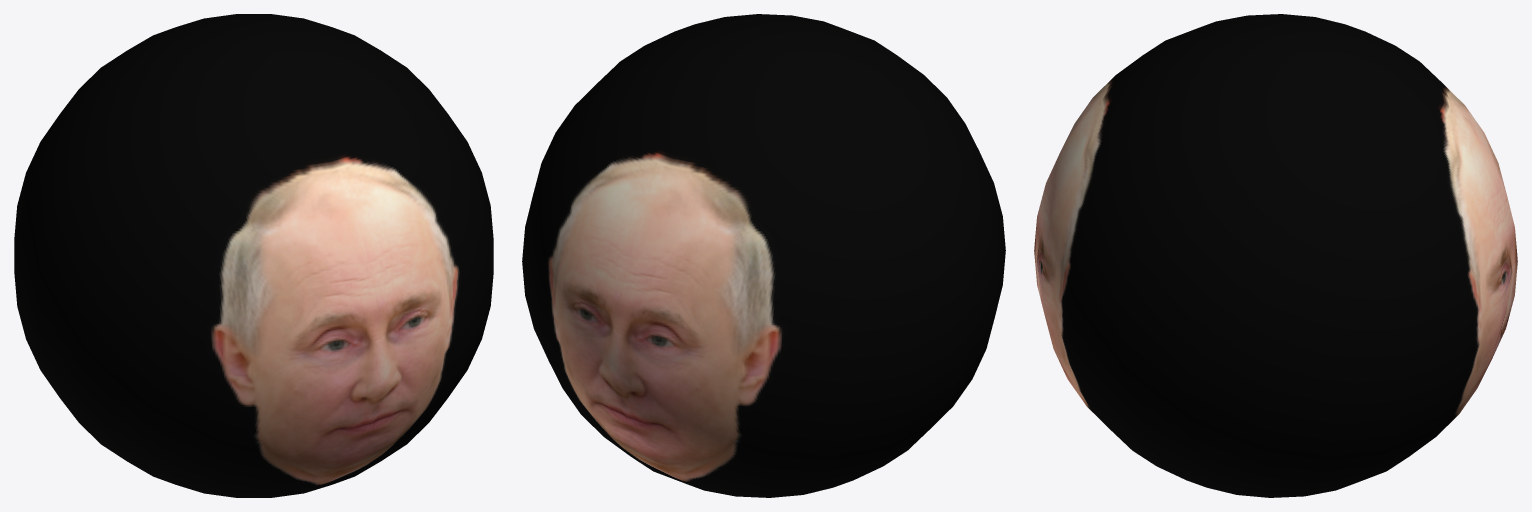
File: ball_01.fbx
3 renders of one model, left to right at view 1: azimuth 30°, elevation 25°; view 2: azimuth 150°, elevation 25°; view 3: azimuth 270°, elevation 25°, orthographic.
Parts seen in each view (by area): view 1: Portret_mesh_01; view 2: Portret_mesh_01; view 3: Portret_mesh_01.
Boxes of the visible parts, <box> form: Portret_mesh_01: <box>14,14,493,497</box>; Portret_mesh_01: <box>522,14,1005,497</box>; Portret_mesh_01: <box>1034,14,1517,497</box>.
Bounding box in the file's own units: 19.97 × 20 × 19.97.
